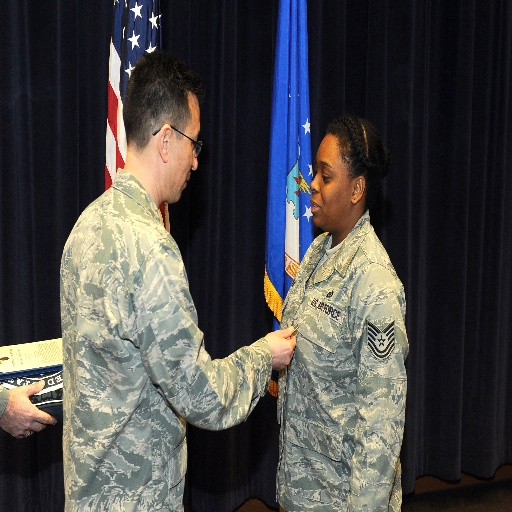hand: (2, 384, 60, 442), (265, 324, 297, 373)
